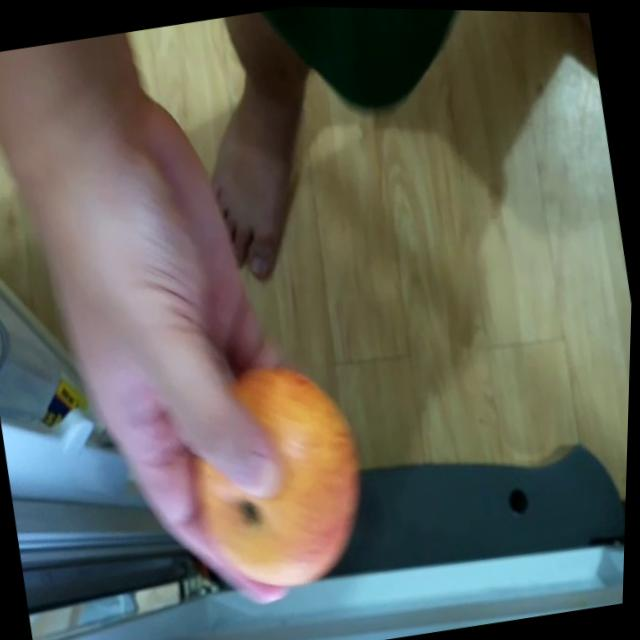apple: (174, 348, 385, 598)
